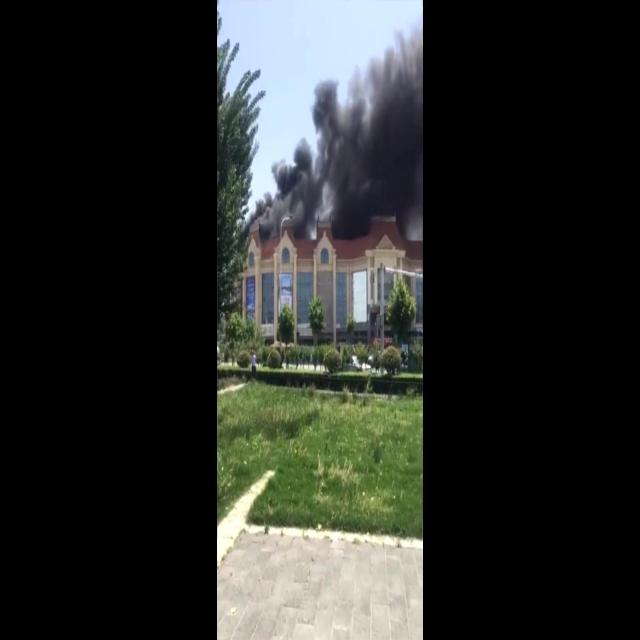smoke: (249, 13, 424, 243)
